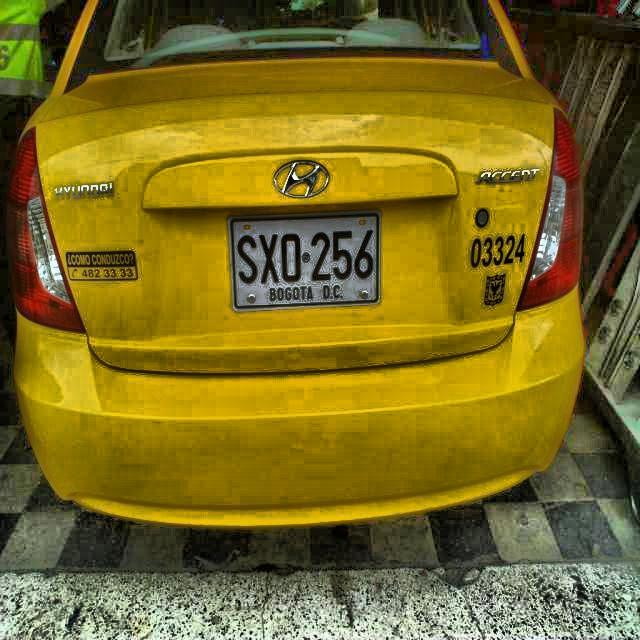plate: (231, 213, 378, 309)
